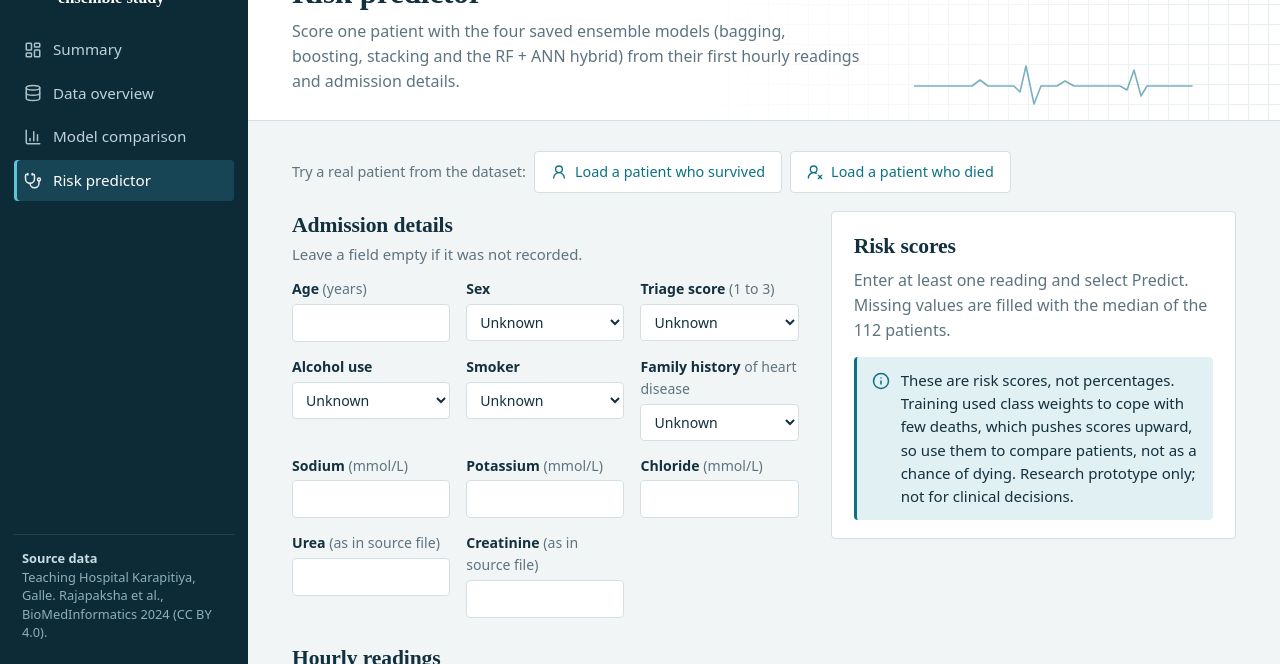
risk predictor loads an example, predicts and shows honest out-of-fold scores
Click the button "Load a patient who died".
click(900, 172)  # box [790,151,1011,193]
(page scrolled)
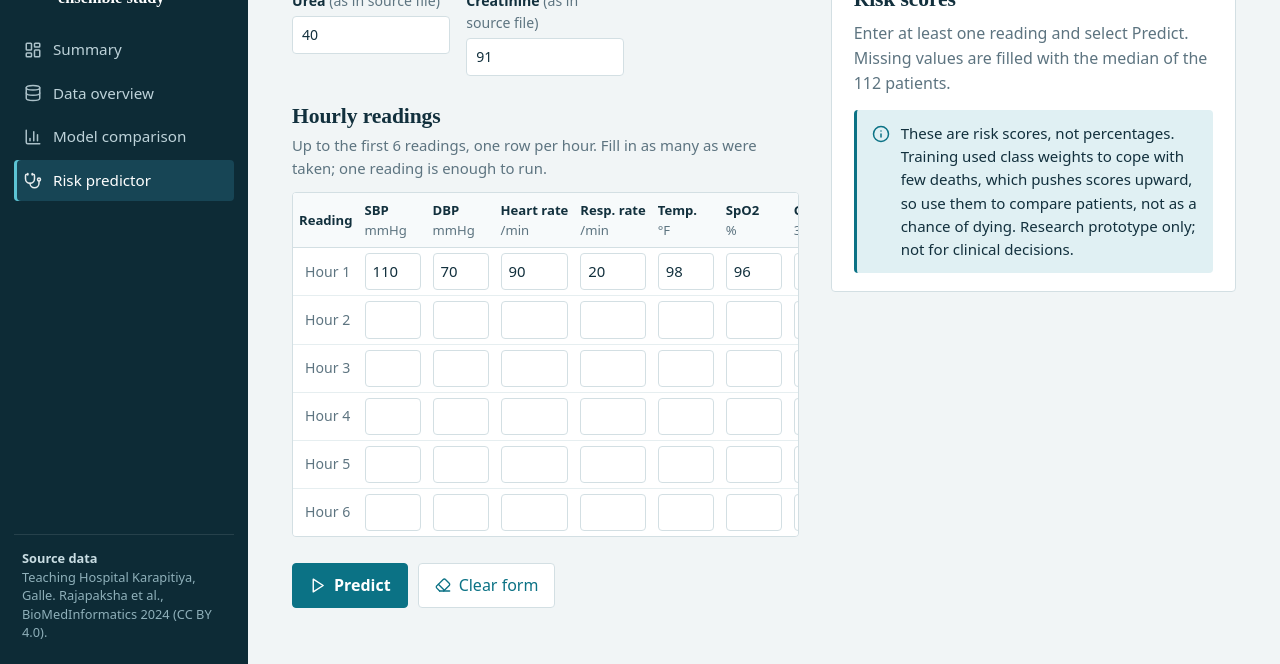
Result: the number field named "Heart rate at hour 1" holds "90" at [500,253,568,290]
Click the button "Predict".
click(350, 585)  # box [292,563,408,608]
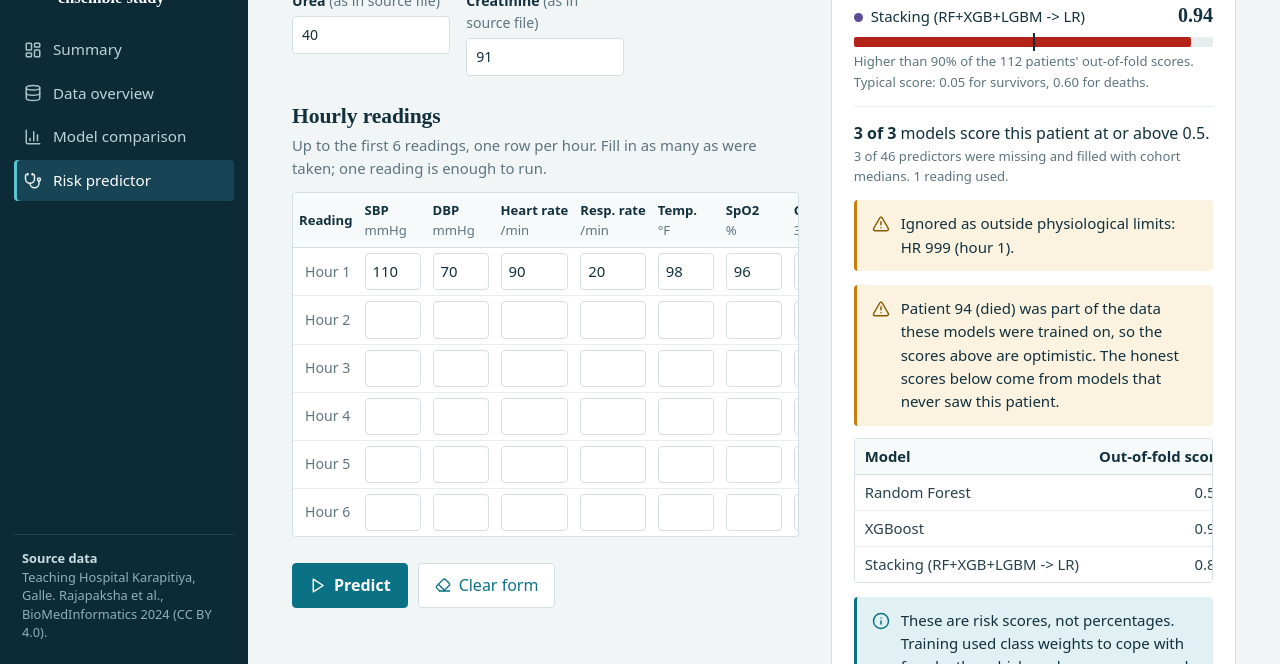
Result: the text "3 of 3" is shown at [854,122,896,144]
Result: the text "Ignored as outside physiological limits: HR 999 (hour 1)." is shown at [901,212,1198,259]
Result: the text "optimistic" is shown at [901,298,1179,411]
